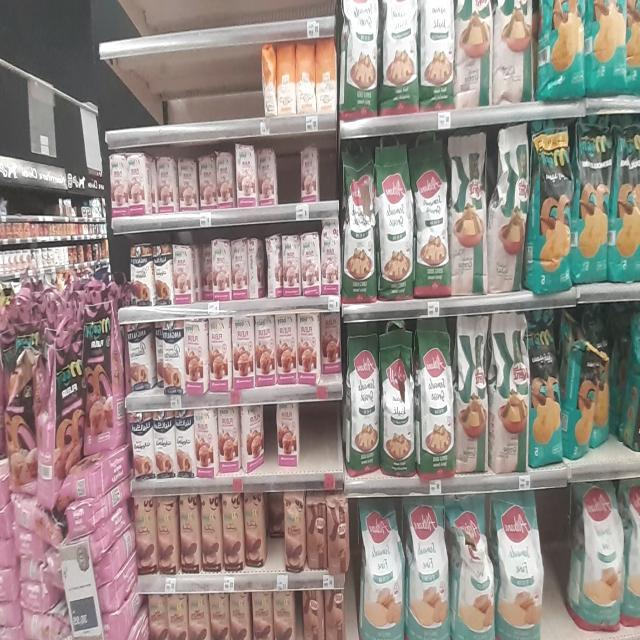produto: (343, 122, 627, 298), (340, 311, 566, 478), (345, 484, 541, 640), (123, 313, 336, 395), (136, 487, 262, 577), (126, 401, 262, 482)
vazio: (100, 45, 274, 136)
